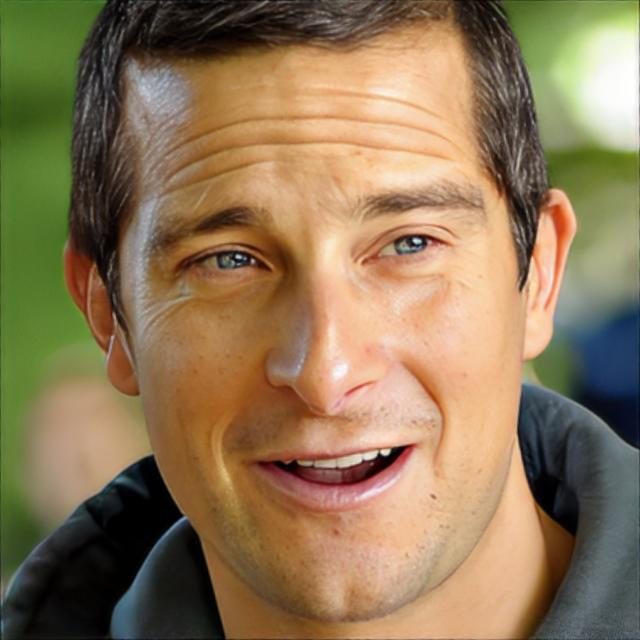surprise: (117, 0, 526, 623)
